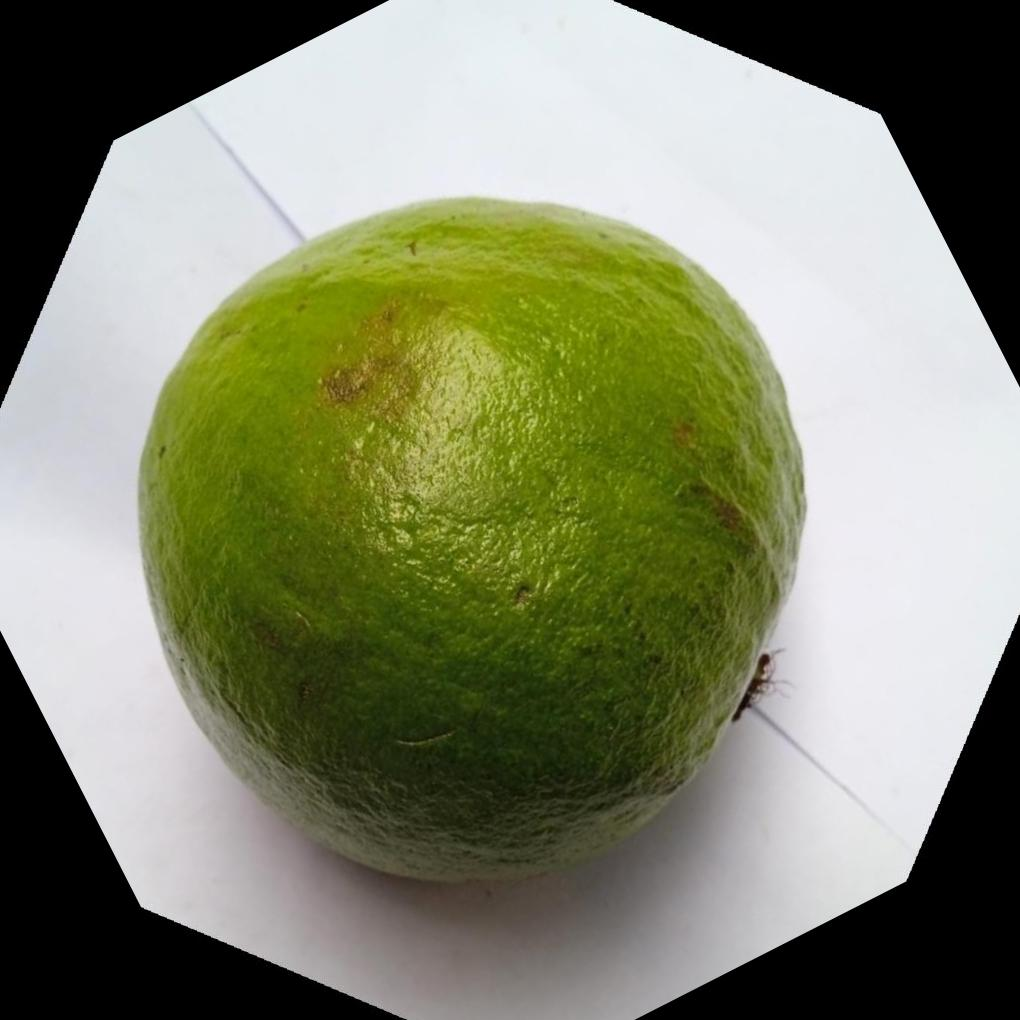FreshGuava: (131, 195, 806, 886)
